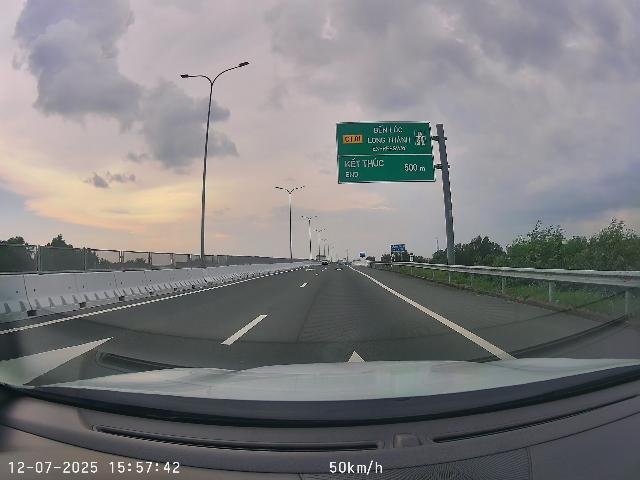438-ket-thuc-duong-cao-toc: (414, 130, 427, 146)
